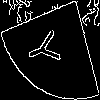Y: (24, 24, 69, 72)
